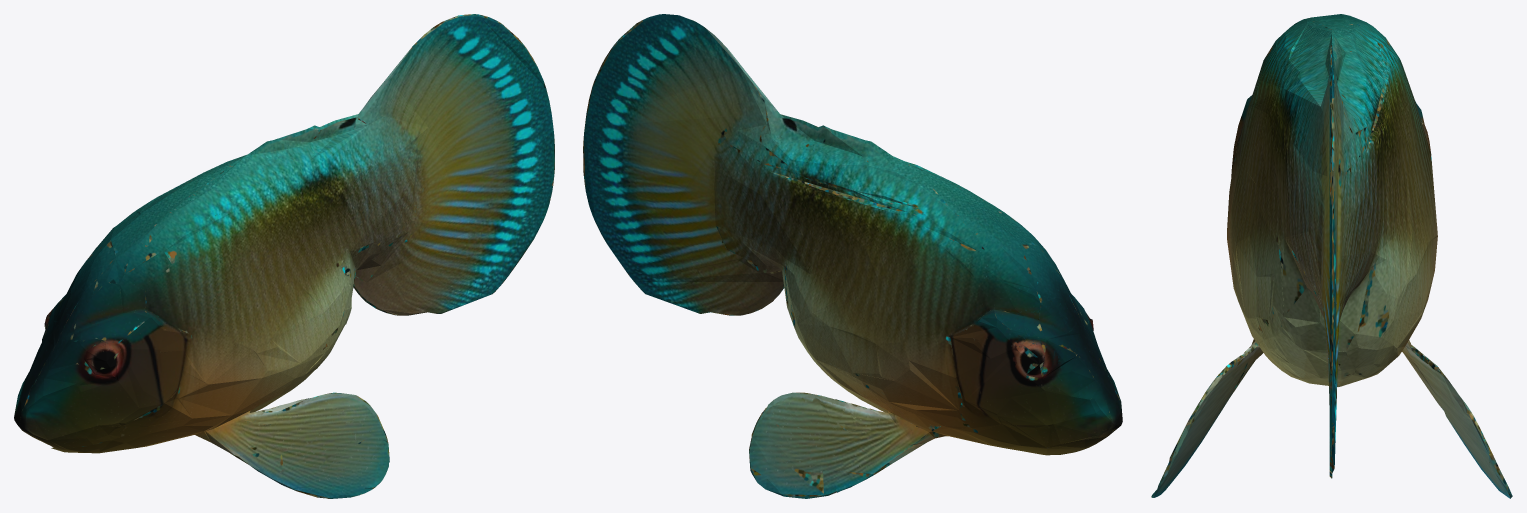
File: fish_0098_smpl23_resized.glb
3 renders of one model, left to right at view 1: azimuth 30°, elevation 25°; view 2: azimuth 150°, elevation 25°; view 3: azimuth 270°, elevation 25°, orthographic. The views are drawn at different scales.
Parts seen in each view (by area): view 1: world; view 2: world; view 3: world.
Part boxes in pixels (x1,y1,x2,y2): world: (14,14,554,498); world: (583,14,1122,498); world: (1151,14,1512,498).
Bounding box in the file's own units: 1.99 × 1.41 × 0.83.
Materials: 1 (1 with a texture image).
